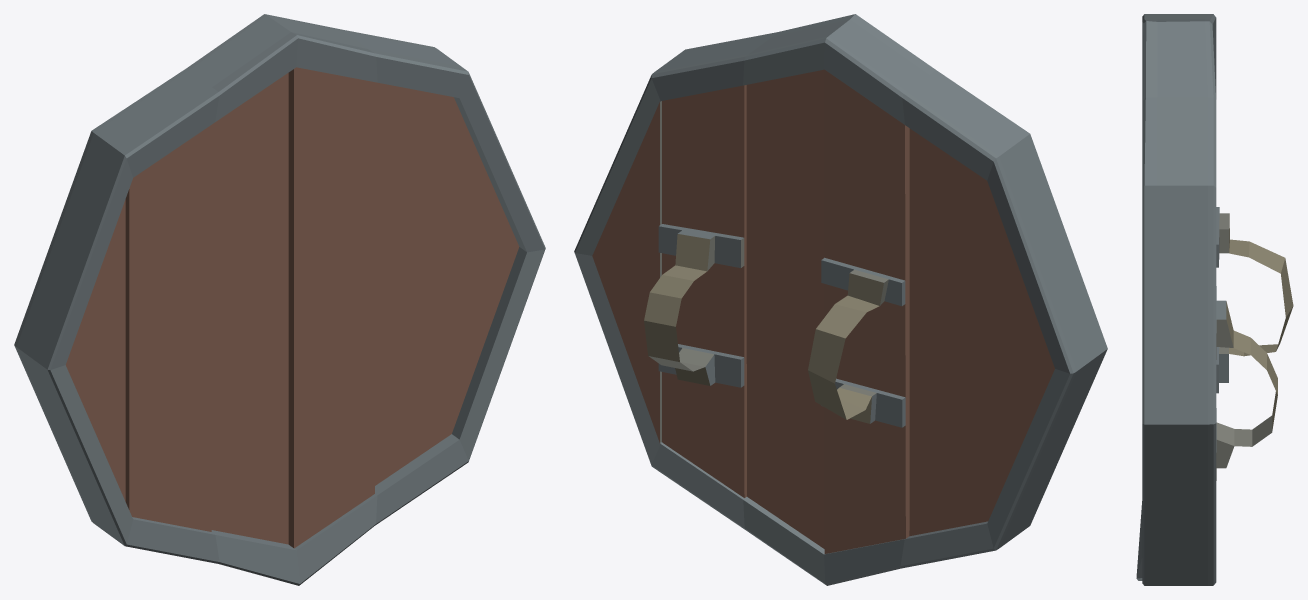
Rendered from Escudo.fbx.
3 views of the same model, side by side, from view 1: azimuth 30°, elevation 25°; view 2: azimuth 150°, elevation 25°; view 3: azimuth 270°, elevation 25° (orthographic). The views are drawn at different scales.
Visible parts, largest first — view 1: Escudo; view 2: Escudo; view 3: Escudo.
Part boxes in pixels (x1=…): Escudo: x1=14, y1=14, x2=545, y2=585; Escudo: x1=574, y1=14, x2=1107, y2=585; Escudo: x1=1136, y1=14, x2=1293, y2=585.
Bounding box in the file's own units: 389 × 408 × 104.
Materials: 1 (1 with a texture image).
